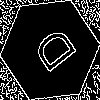D: (25, 25, 78, 81)
